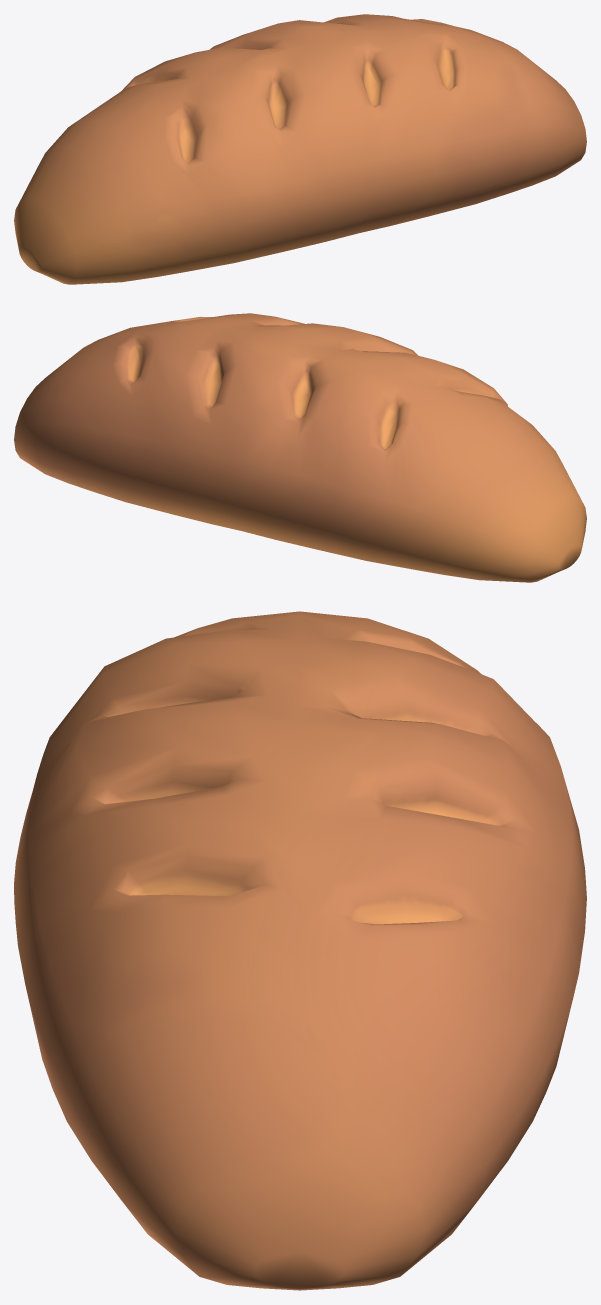
Rendered from bread_2.fbx.
3 renders of one model, top to bottom at view 1: azimuth 30°, elevation 25°; view 2: azimuth 150°, elevation 25°; view 3: azimuth 270°, elevation 25°, orthographic. The views are drawn at different scales.
Parts seen in each view (by area): view 1: pie.003; view 2: pie.003; view 3: pie.003.
Boxes of the visible parts, left/top/right/bottom form: pie.003: left=14, top=14, right=586, bottom=284; pie.003: left=14, top=313, right=586, bottom=582; pie.003: left=14, top=611, right=586, bottom=1290.
Size of the model in its own units: 12.92 by 3.85 by 5.99.
